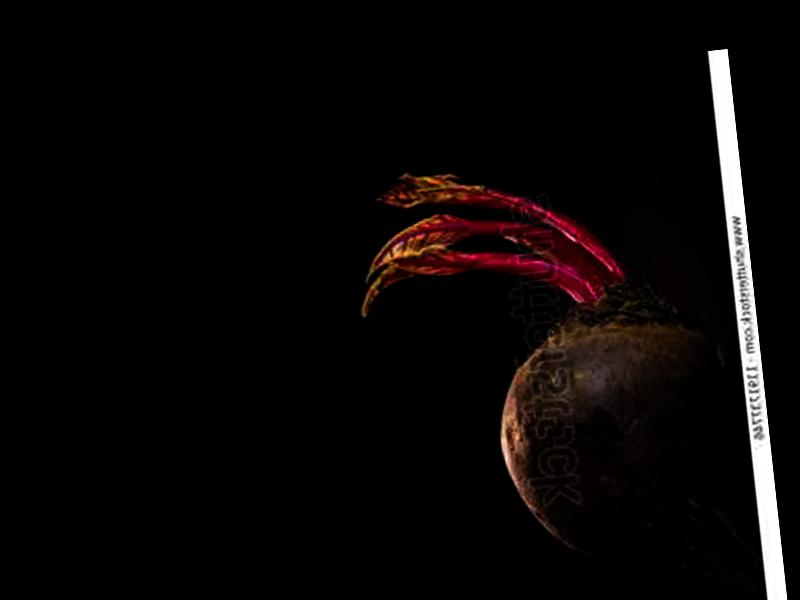Beet: (346, 141, 766, 600)
